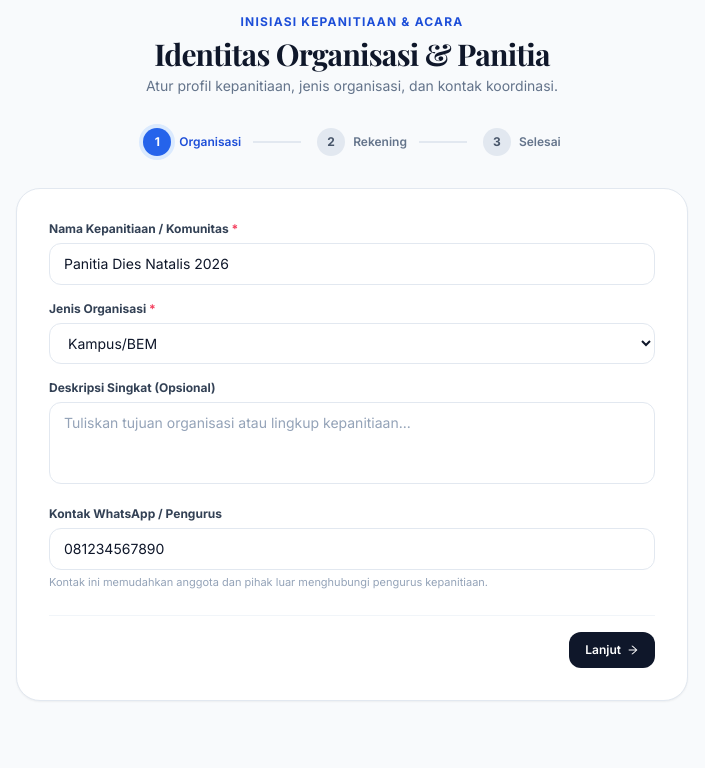
Test case: PANITIA-1.3 Kepanitiaan Setup & Onboarding › PanitiaSetupWizard — Flow Inisiasi & Tanpa Pembuatan Unit › menyimpan settings kepanitiaan tanpa memanggil pembuatan unit
Expected: the field showing "Panitia Dies Natalis 2026" below "Nama Kepanitiaan / Komunitas" is shown, [49,243,655,285]
Note: Langkah 1: Klik tombol Lanjut ke Langkah 2 (Rekening)
Step 1. Click the button "Lanjut" → (612, 650), box [569,632,655,668]
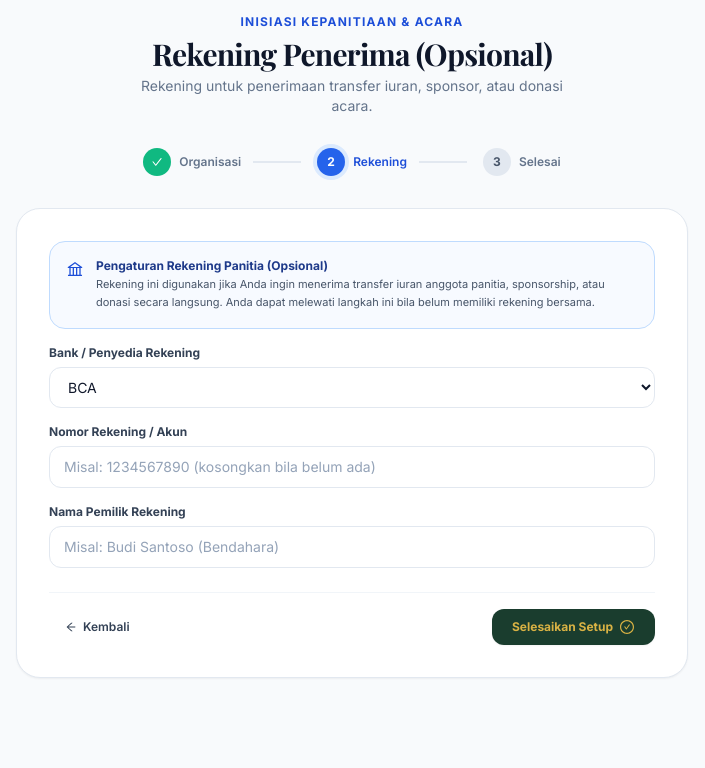
Expected: the text "Rekening untuk penerimaan transfer iuran, sponsor, atau donasi acara" is shown, [141,77,563,114]
Note: Selesaikan setup
Step 2. Click the button "Selesaikan Setup" → (574, 627), box [492,609,655,645]
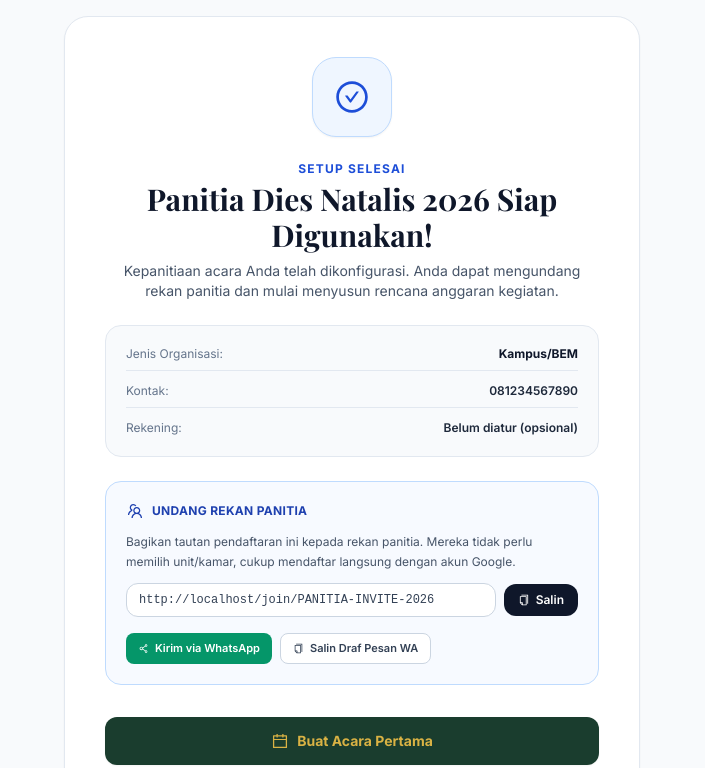
Expected: the heading "Panitia Dies Natalis 2026 Siap Digunakan!" is shown, [147,179,557,255]
Expected: the text "Buat Acara Pertama" is shown, [297,730,433,750]
